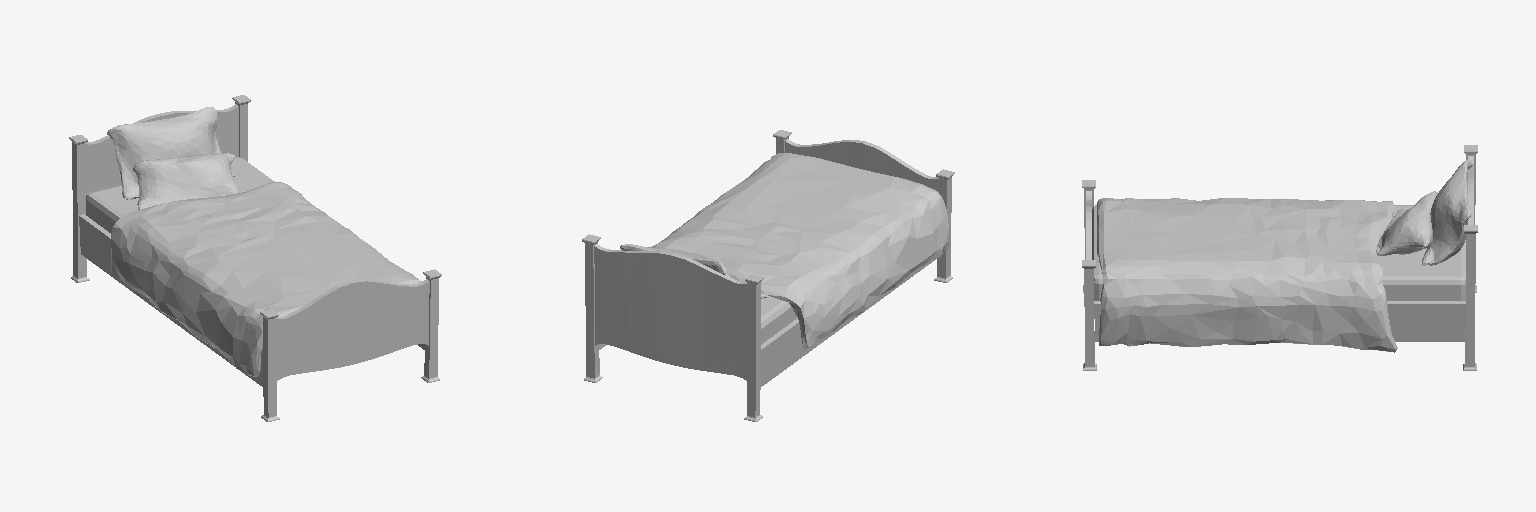
The model's file is cama.obj.
3 views of the same model, side by side, from view 1: azimuth 30°, elevation 25°; view 2: azimuth 150°, elevation 25°; view 3: azimuth 270°, elevation 25° (orthographic).
Visible parts, largest first — view 1: Bed_meshId0_name; view 2: Bed_meshId0_name; view 3: Bed_meshId0_name.
Part boxes in pixels (bbox=[...]): Bed_meshId0_name: bbox=[69, 95, 441, 421]; Bed_meshId0_name: bbox=[582, 130, 954, 421]; Bed_meshId0_name: bbox=[1082, 145, 1477, 370].
Bounding box in the file's own units: 115 × 82.58 × 202.